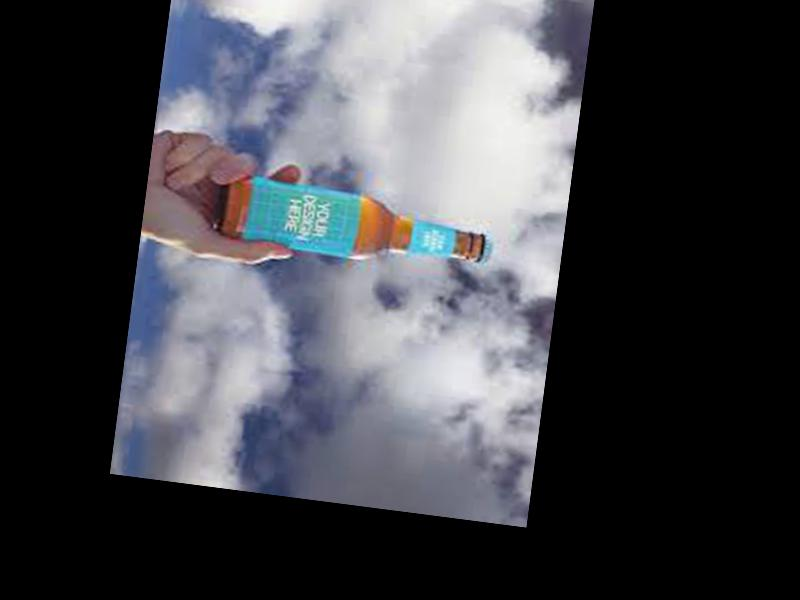Beer: (215, 178, 494, 276)
